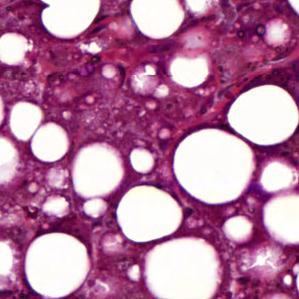steatosis: (170, 128, 254, 206), (19, 229, 93, 299), (225, 83, 299, 145), (115, 188, 184, 246)
